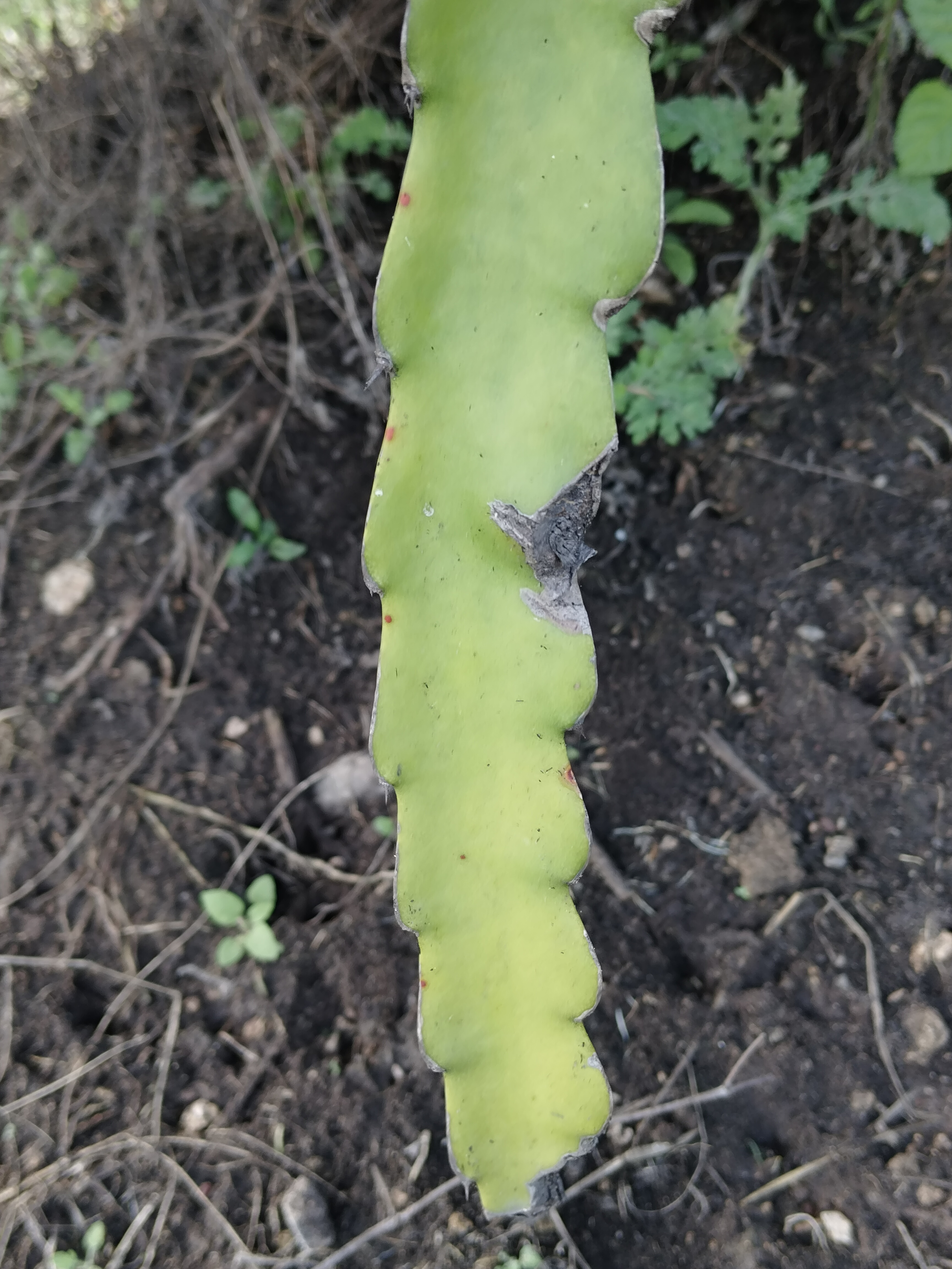stemcanker: (355, 3, 689, 1222)
